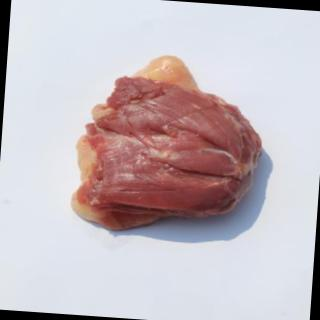Daging Sapi: (66, 49, 267, 243)
